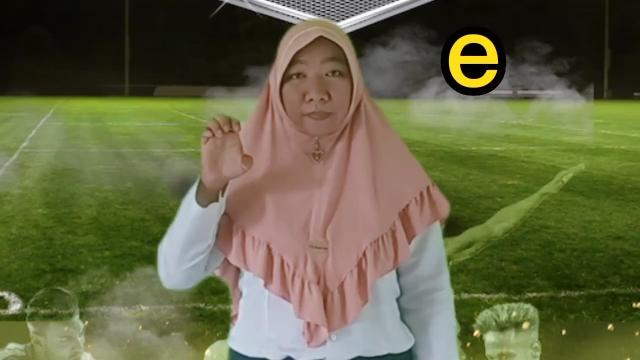E: (200, 115, 254, 182)
